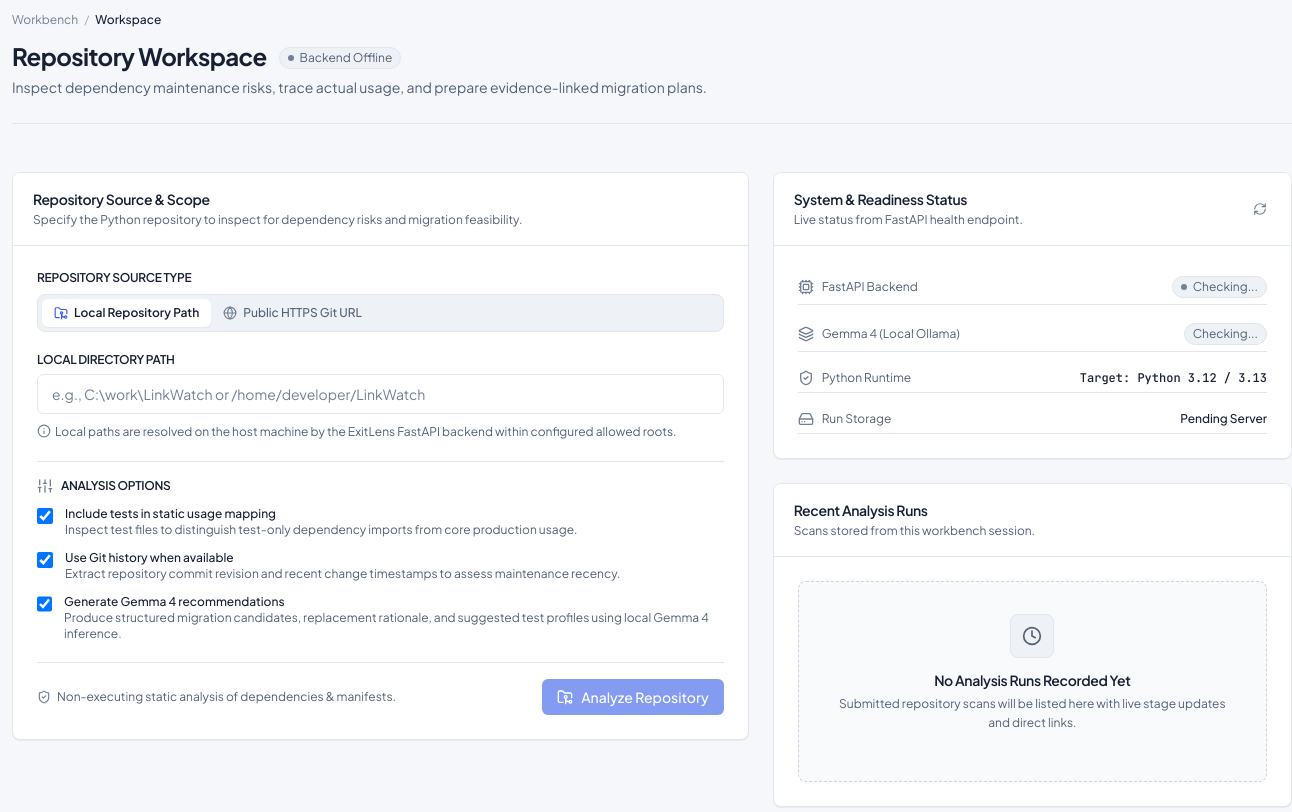
Scenario: WorkspacePage Component with Backend Integration › submits repository and begins polling progress until completion
This screenshot has width=1292, height=812.
Step 1. Type "C:\\work\\LinkWatch" into the field with placeholder "e.g., C:\\work\\LinkWatch or /home/developer/LinkWatch" → point(380, 394), box [37,374,724,414]
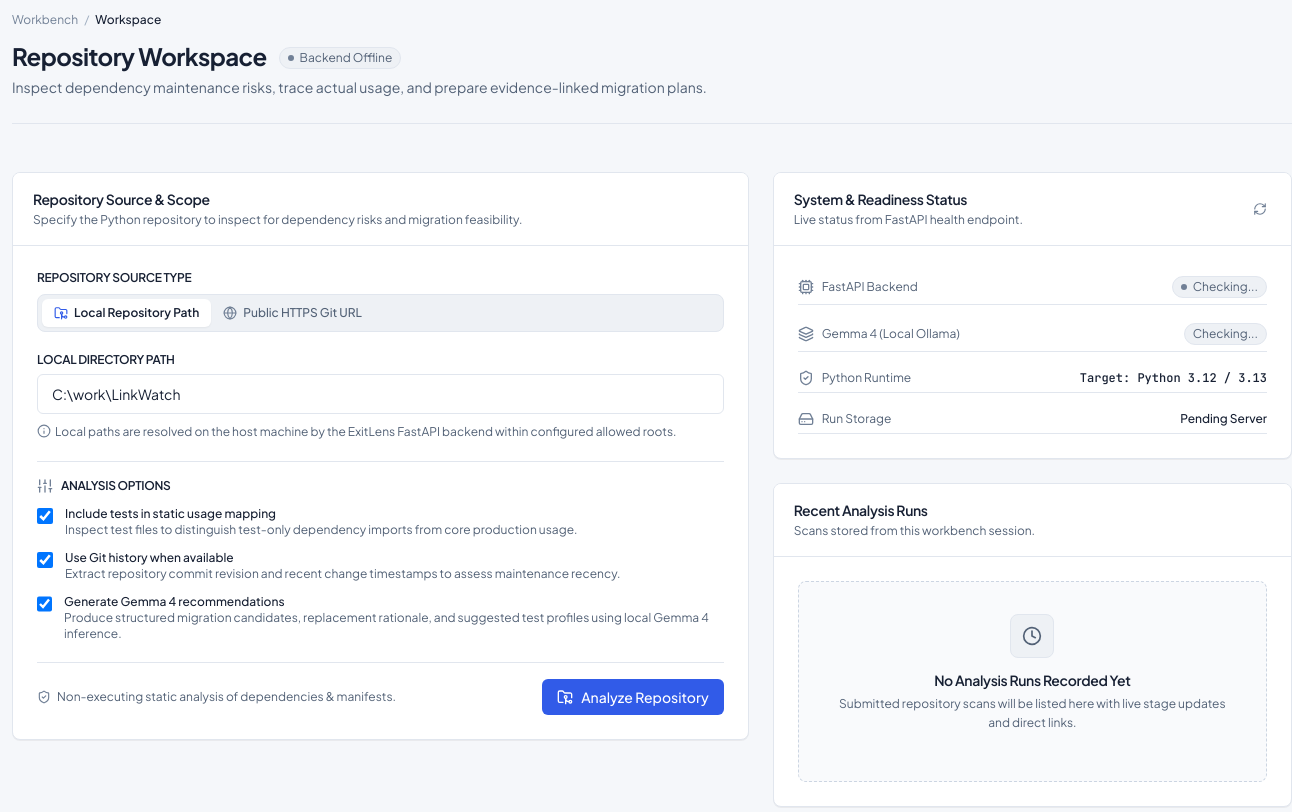
Step 2. Click the button "Analyze Repository" → point(633, 697), box [542,679,724,715]
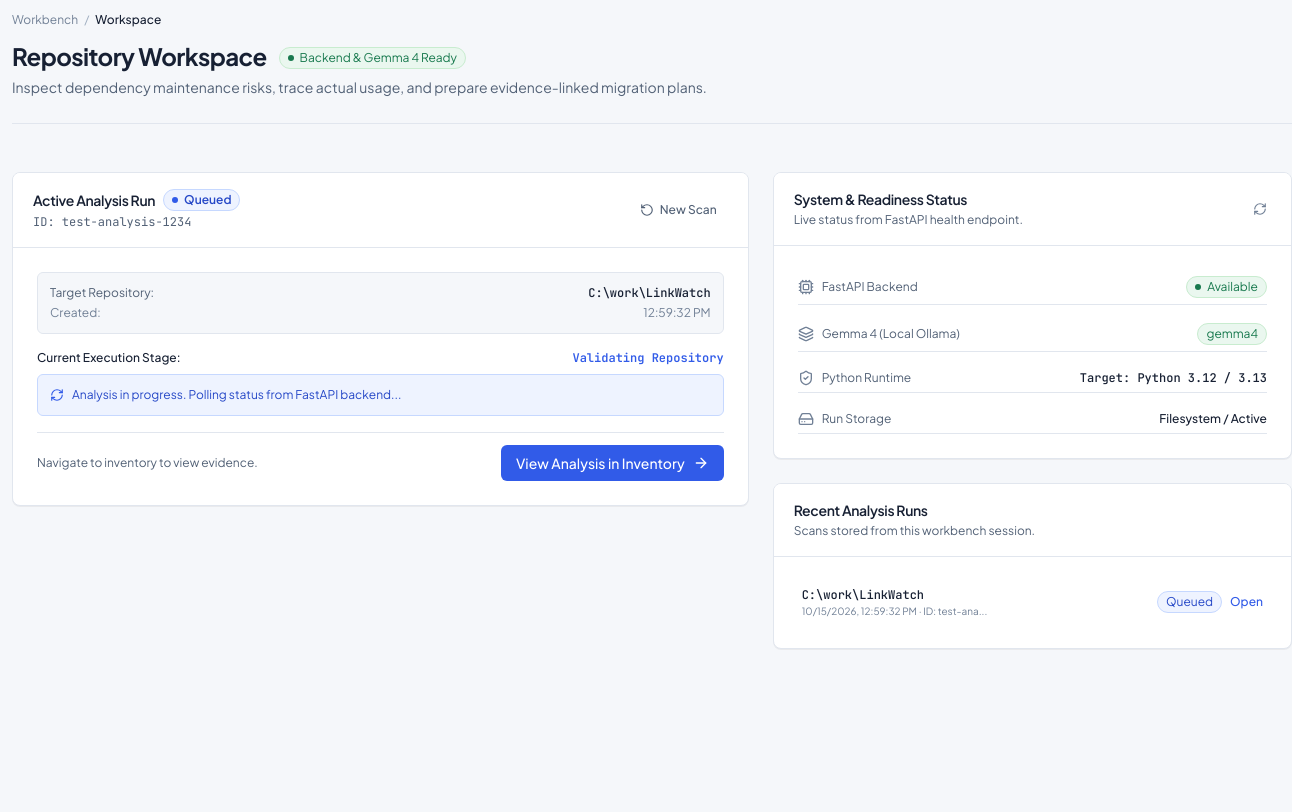
Now the text "ID: test-analysis-1234" is shown, box [33,214,191,230]
Now the button "View Analysis in Inventory" is shown, box [501,445,724,481]
